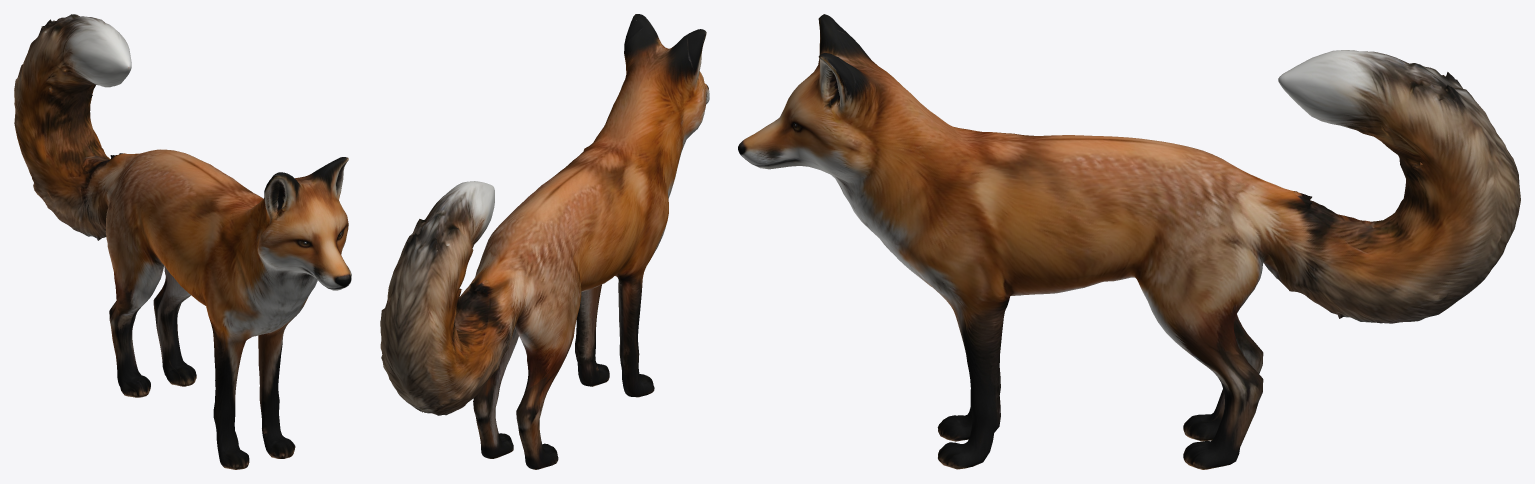
File: fox.glb
3 renders of one model, left to right at view 1: azimuth 30°, elevation 25°; view 2: azimuth 150°, elevation 25°; view 3: azimuth 270°, elevation 25°, orthographic. The views are drawn at different scales.
Parts seen in each view (by area): view 1: Object_4; view 2: Object_4; view 3: Object_4.
Part boxes in pixels (x1,y1,x2,y2): Object_4: (14, 14, 351, 469); Object_4: (380, 14, 709, 469); Object_4: (738, 14, 1520, 469).
Size of the model in its own units: 0.3303 by 1.18 by 2.
1 material, 1 textured.
